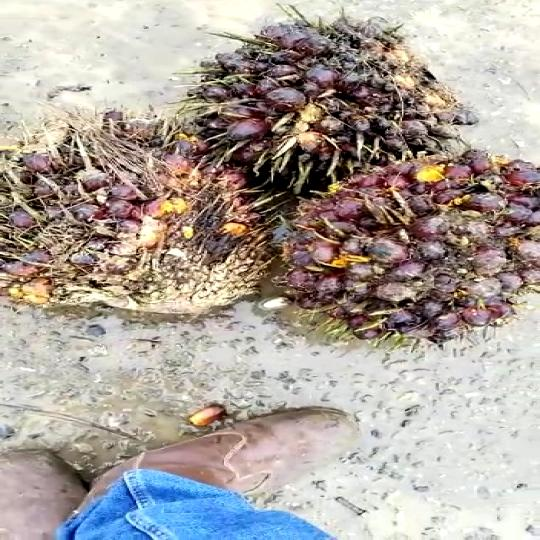kurang masak: (0, 112, 285, 319), (268, 148, 540, 353), (194, 14, 457, 181)
